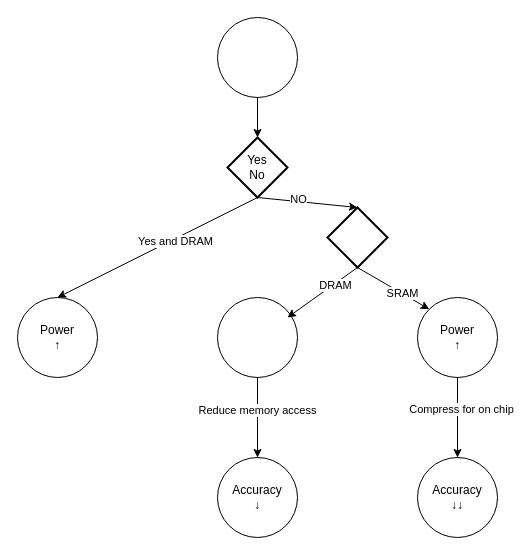
The diagram is 531 pixels wide and 555 high, and some of its shapes have lost their labels. The shapes that lost their labels are listed below. From the top down, each one's box as (x1, y1, x2, y2) in pixels, then its label:
(216, 16, 298, 98): Real-time (Streaming)
(326, 206, 388, 268): DRAM SRAM
(216, 296, 298, 378): Power ↑↑
